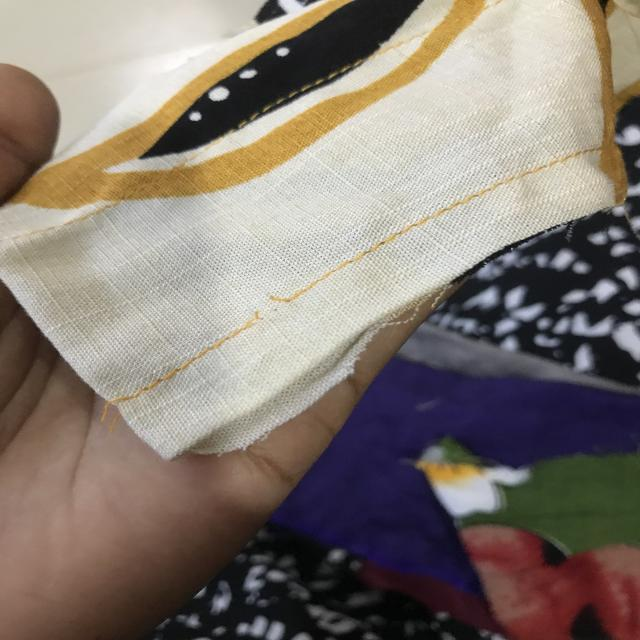broken: (222, 283, 303, 327)
